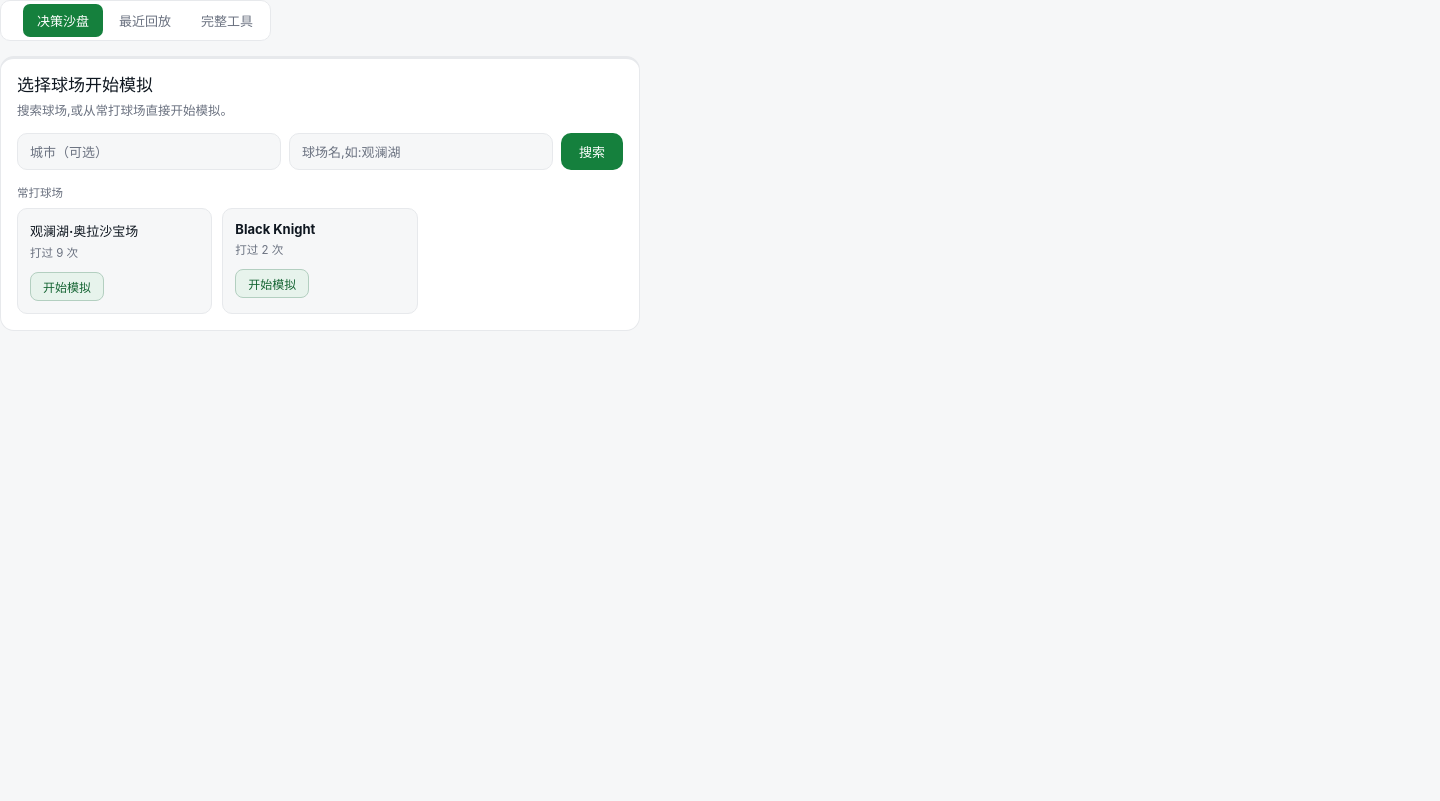
Test: LivePage 最近回放 detail › clicking a row fetches and renders that round detail
The width and height of the screenshot is (1440, 801).
Click the button "最近回放" at (145, 20), box [105,4,185,37]
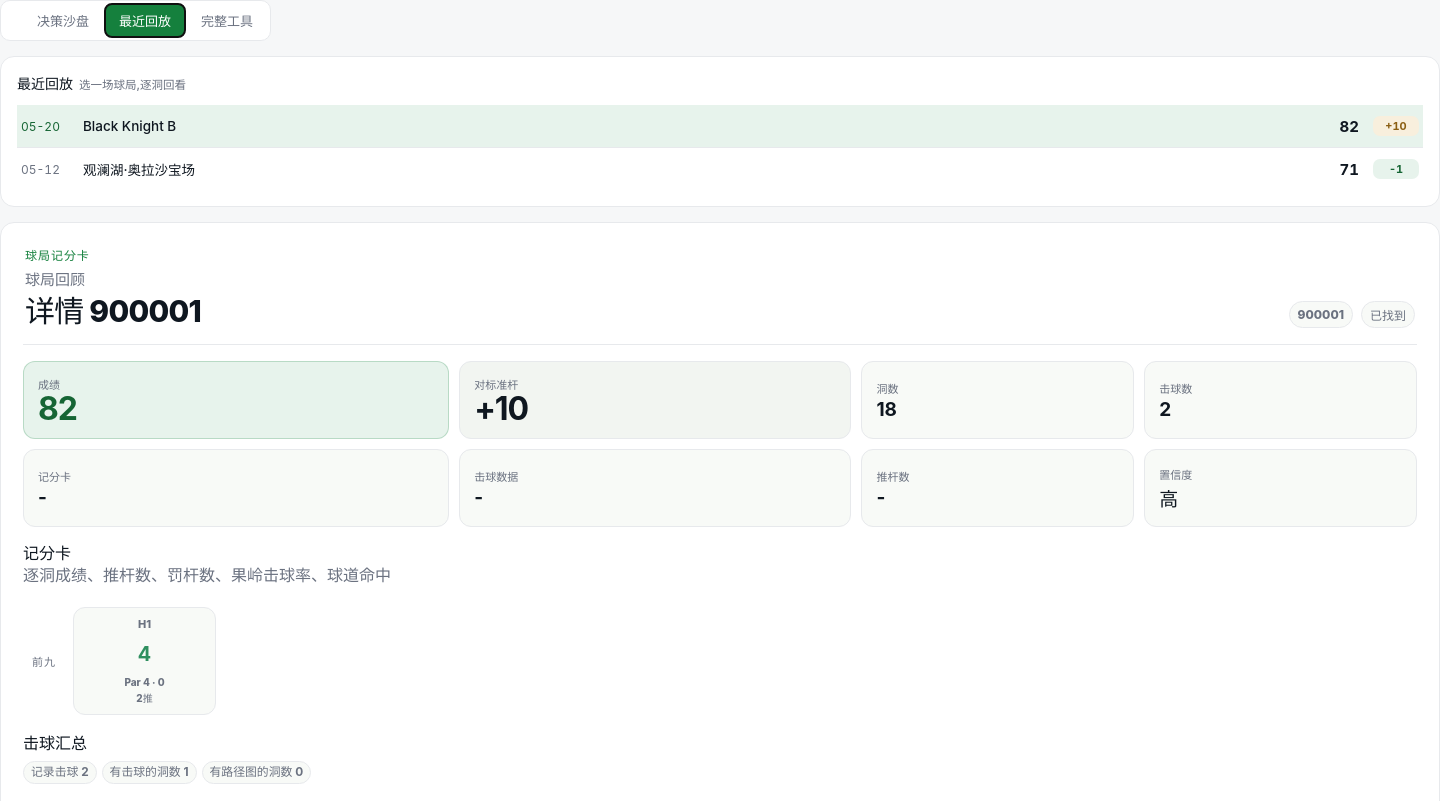
Check: the text "详情 900001" is shown, box [25,294,201,328]
Click the button with aria-label "回放 观澜湖·奥拉沙宝场 05-12" at (40, 169), box [17,148,1423,190]
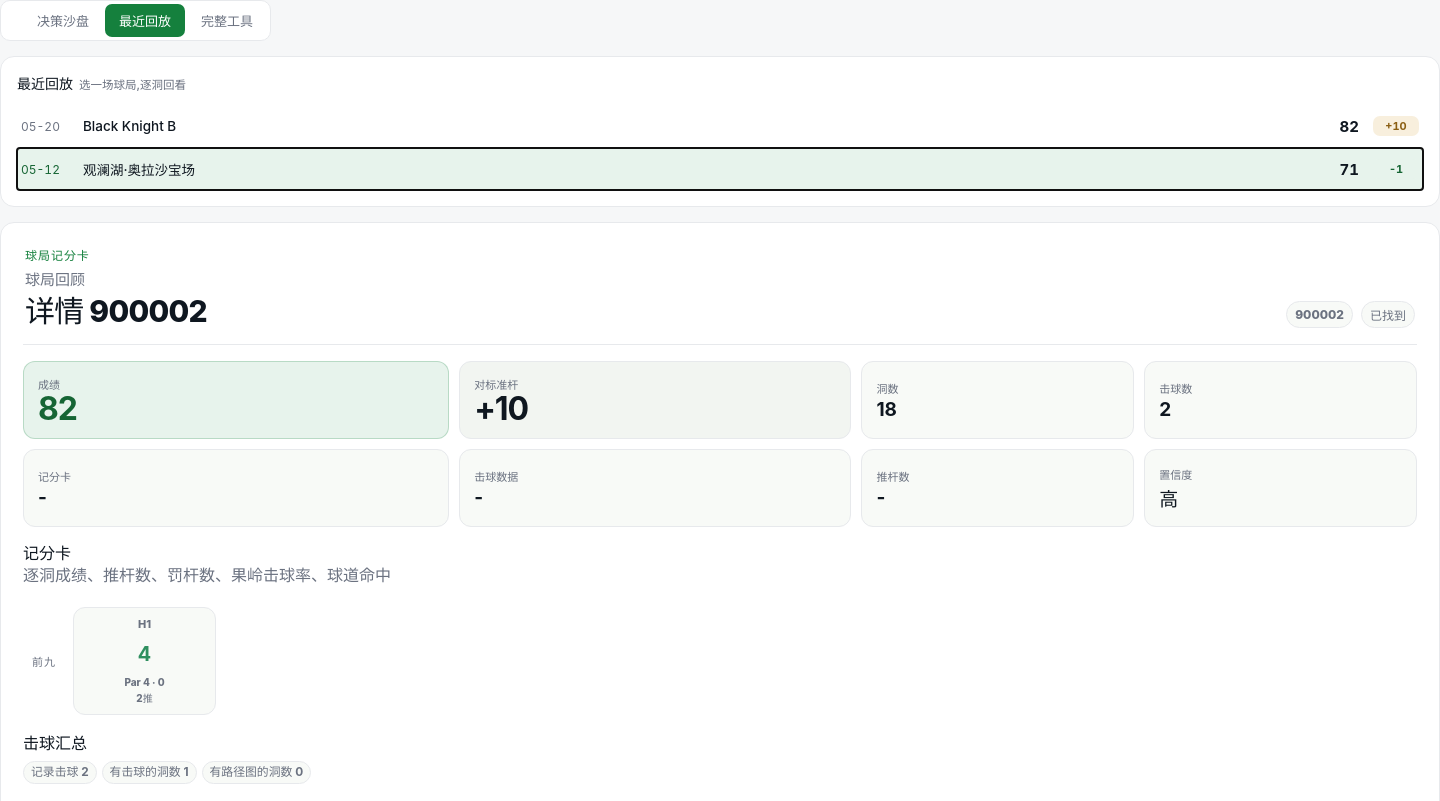
Check: the text "详情 900002" is shown, box [25,294,207,328]
Check: the text "详情 900001" is gone
